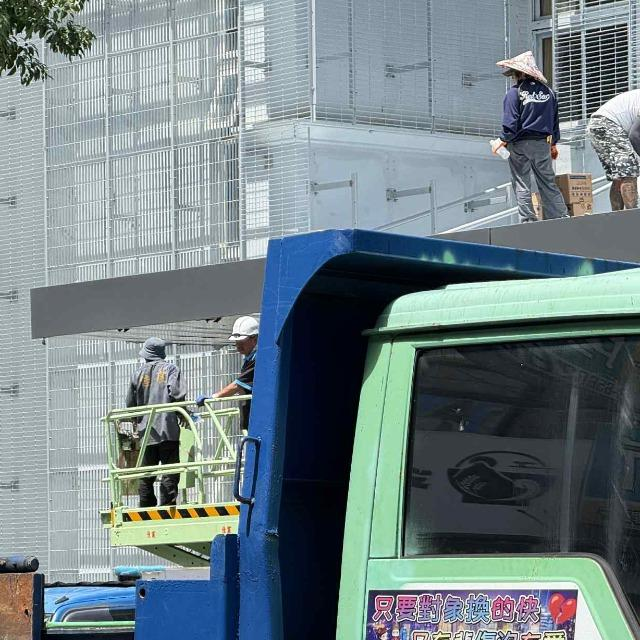NoVest: (129, 358, 186, 442), (500, 81, 561, 150)
